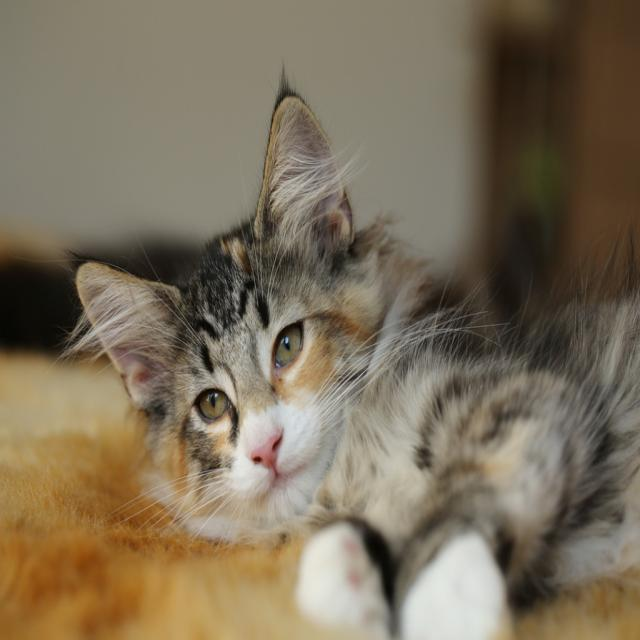Cat: (57, 70, 638, 638)
